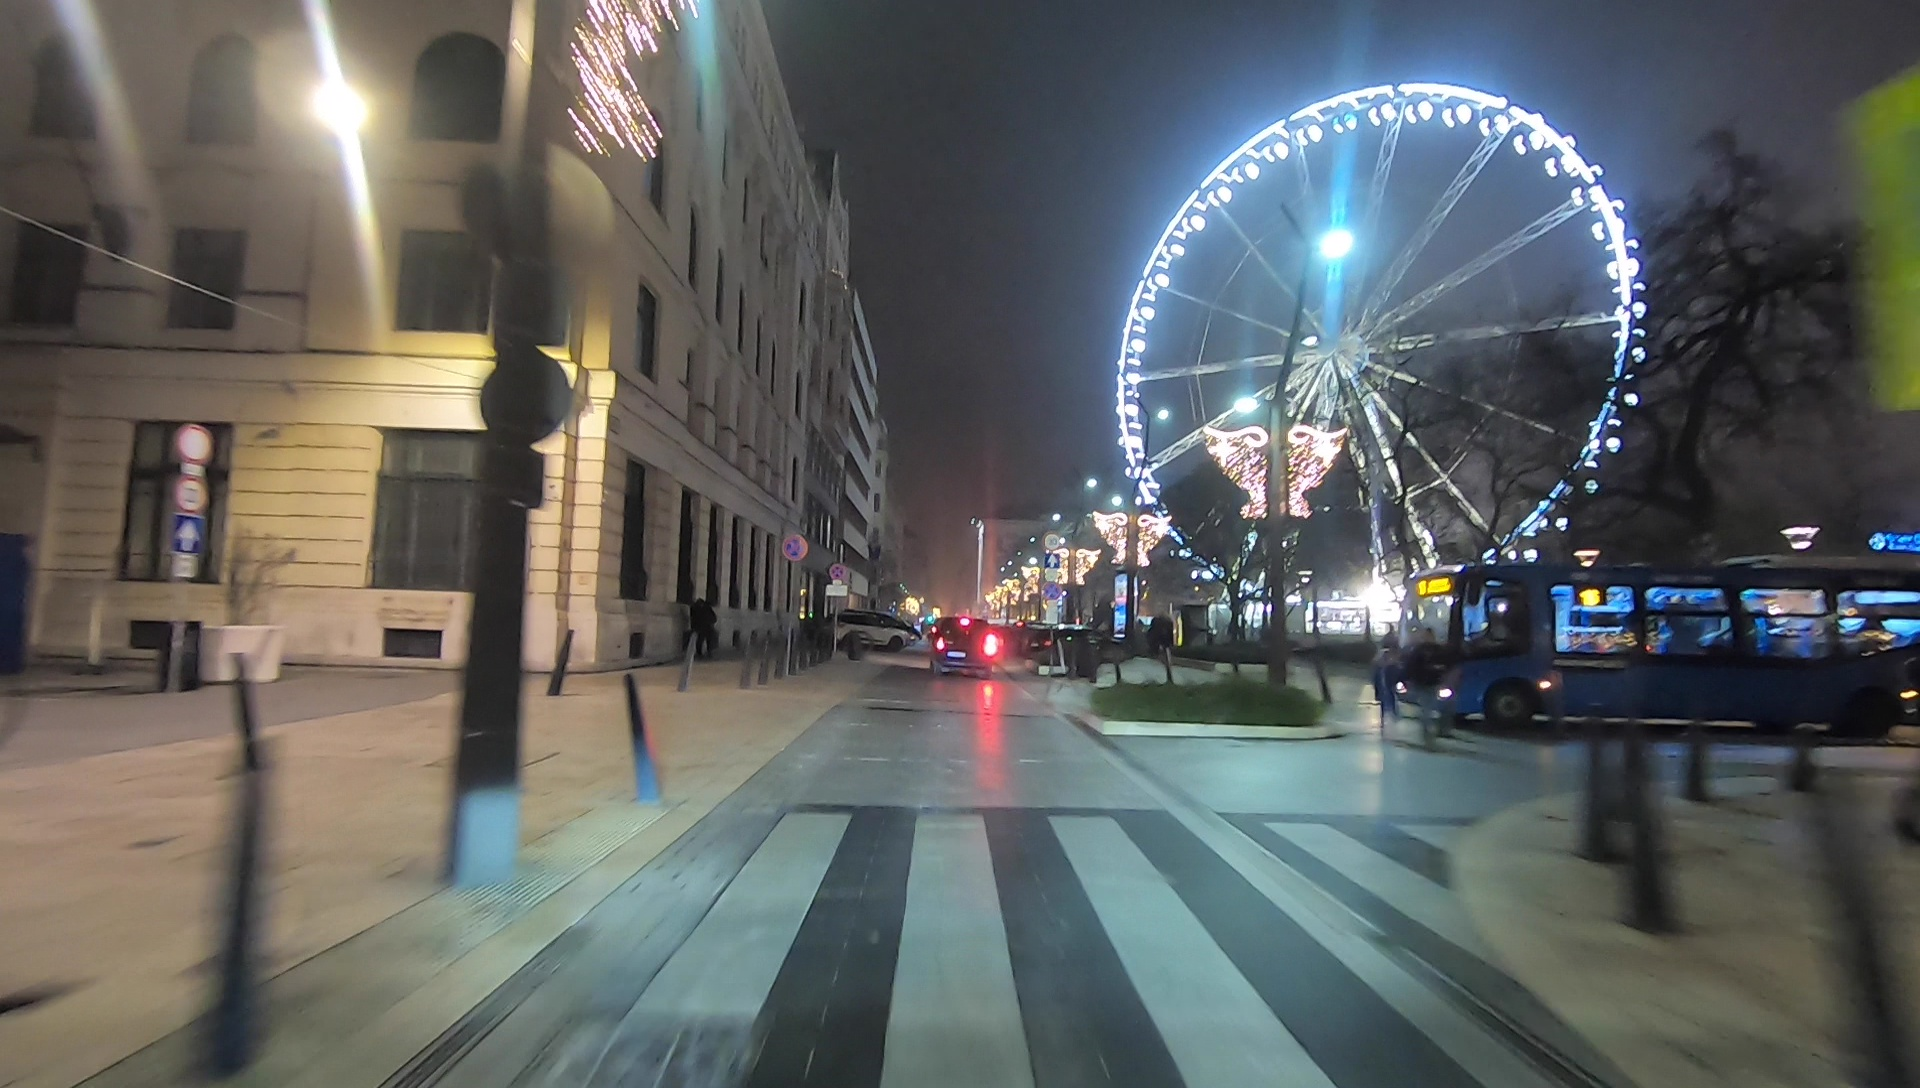person: (1410, 628, 1451, 755), (1372, 642, 1405, 730)
